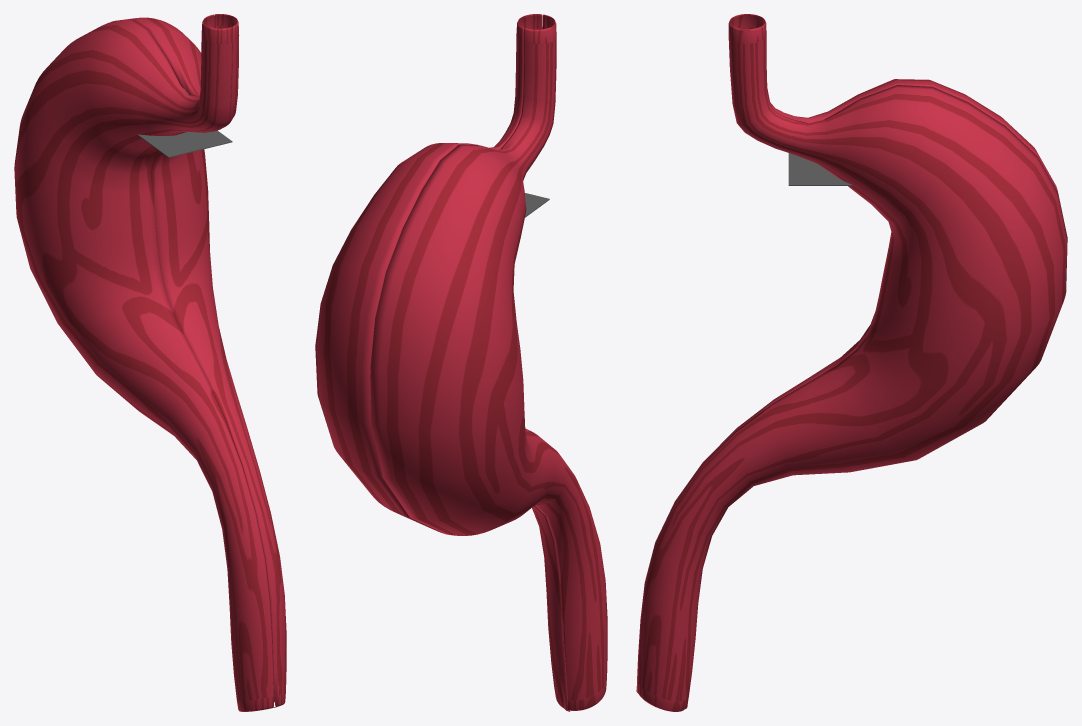
File: Stomach03.fbx
3 renders of one model, left to right at view 1: azimuth 30°, elevation 25°; view 2: azimuth 150°, elevation 25°; view 3: azimuth 270°, elevation 25°, orthographic. The views are drawn at different scales.
Parts seen in each view (by area): view 1: Stomach_Body.001, Stomach_Body, Platform; view 2: Stomach_Body.001, Stomach_Body; view 3: Stomach_Body, Stomach_Body.001, Platform.
Boxes of the visible parts, bbox=[...] form: Stomach_Body.001: bbox=[14, 14, 275, 711]; Stomach_Body: bbox=[130, 14, 286, 707]; Platform: bbox=[137, 130, 232, 157]; Stomach_Body.001: bbox=[370, 14, 607, 711]; Stomach_Body: bbox=[315, 14, 568, 710]; Stomach_Body: bbox=[636, 23, 1067, 711]; Stomach_Body.001: bbox=[636, 14, 1067, 706]; Platform: bbox=[788, 153, 852, 185].
Size of the model in its own units: 10483 by 2829 by 5973.
